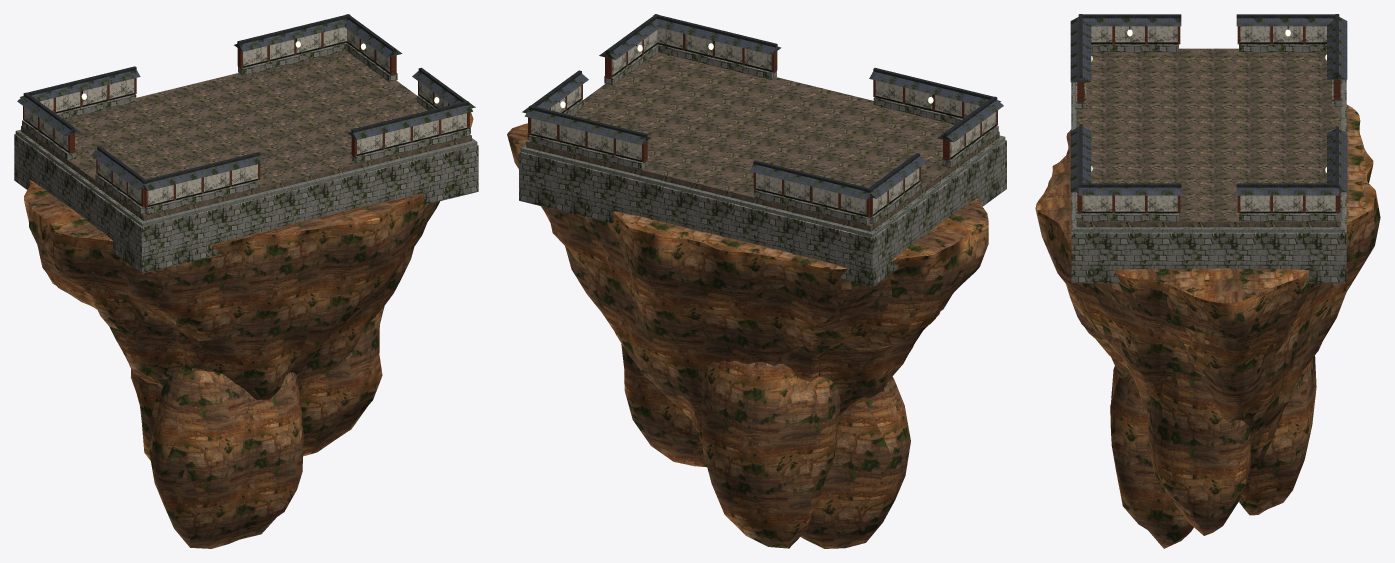
The model's file is Room_Boss.fbx.
The picture shows the model from 3 angles, left to right: view 1: azimuth 30°, elevation 25°; view 2: azimuth 150°, elevation 25°; view 3: azimuth 270°, elevation 25°; orthographic projection. The views are drawn at different scales.
Parts seen in each view (by area): view 1: Boss_Rock_LOD0, Boss_Structure_LOD0; view 2: Boss_Rock_LOD0, Boss_Structure_LOD0; view 3: Boss_Structure_LOD0, Boss_Rock_LOD0.
Boxes of the visible parts, x1=… form: Boss_Rock_LOD0: x1=24, y1=112, x2=473, y2=548; Boss_Structure_LOD0: x1=14, y1=14, x2=478, y2=273; Boss_Rock_LOD0: x1=507, y1=123, x2=988, y2=548; Boss_Structure_LOD0: x1=519, y1=14, x2=1006, y2=286; Boss_Structure_LOD0: x1=1070, y1=14, x2=1347, y2=283; Boss_Rock_LOD0: x1=1035, y1=104, x2=1380, y2=548.
Size of what is drawn, in the model's own units: 45.05 by 42.06 by 28.7.
